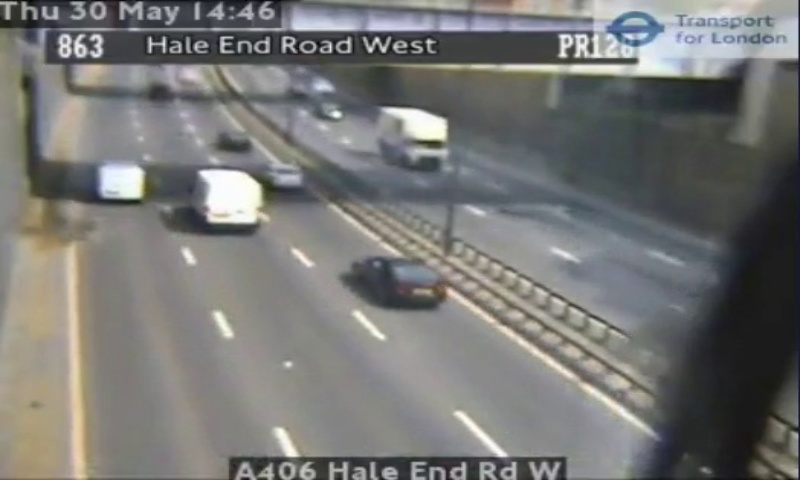car: (352, 257, 447, 306), (265, 164, 303, 187)
van: (190, 168, 262, 227), (97, 164, 145, 200)
